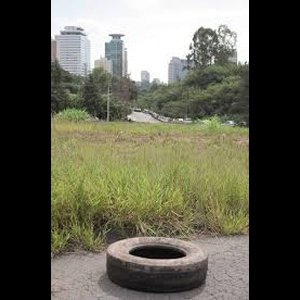tire: (107, 236, 208, 294)
